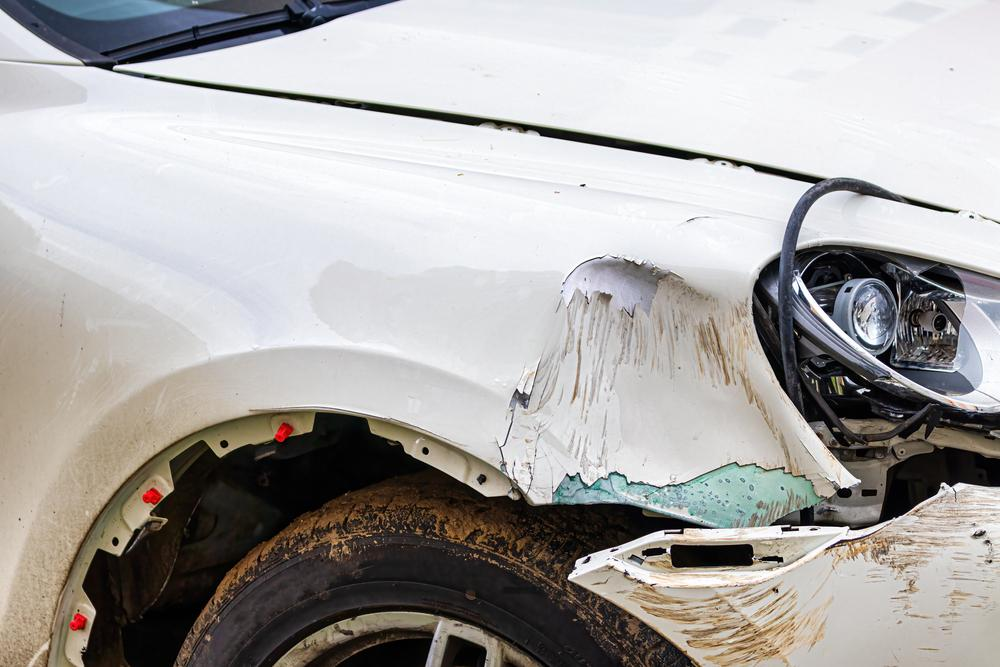dent: (500, 256, 840, 526)
lamp broken: (749, 250, 1000, 482)
scratch: (599, 484, 1000, 667)
